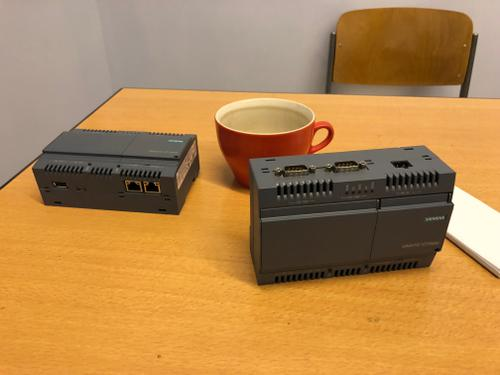device: (249, 145, 457, 287), (32, 129, 201, 216)
